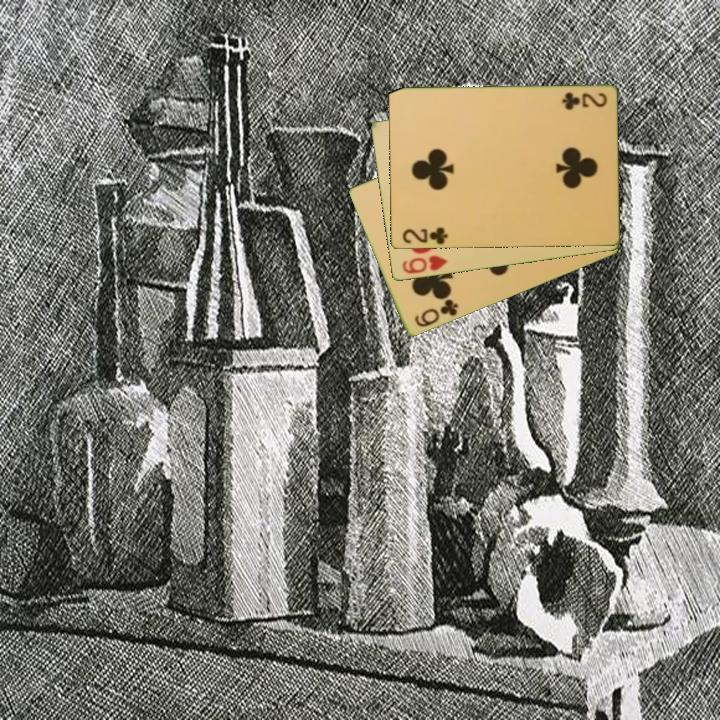2c: (399, 224, 450, 247), (558, 89, 609, 111)
6c: (411, 296, 461, 330)
6h: (398, 252, 450, 277)
